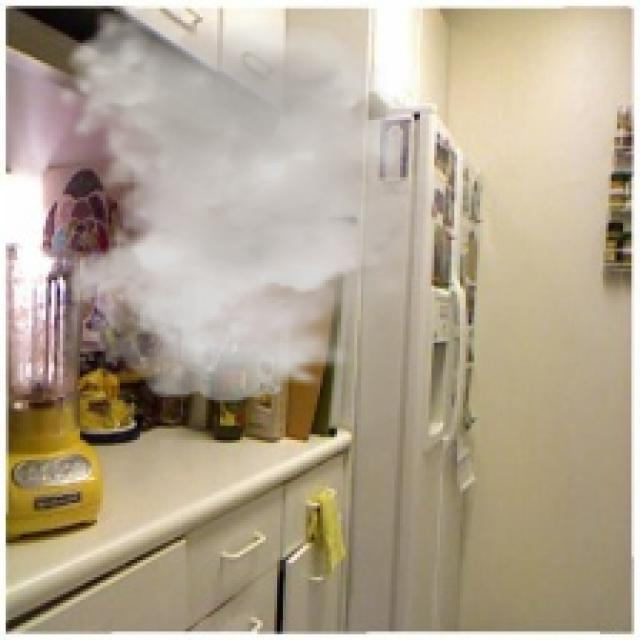Smoke: (54, 6, 463, 403)
